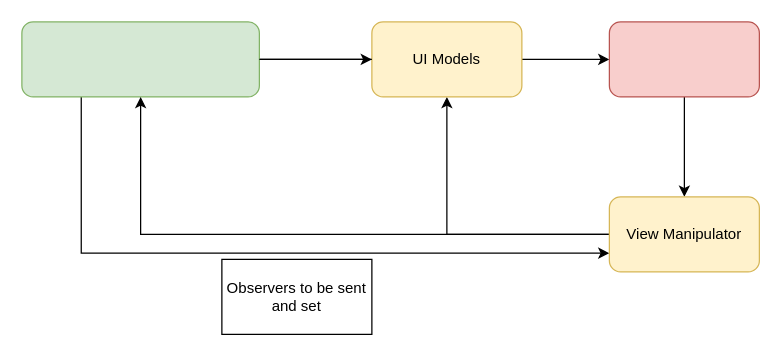
Image size: 781x356. Some labels were removed from this diagram. Here are the shapes that lost their labels. From the top down, the centre of each, then its label:
At pixel 140 59: "DATA/ViewModel".
At pixel 683 59: "View".
